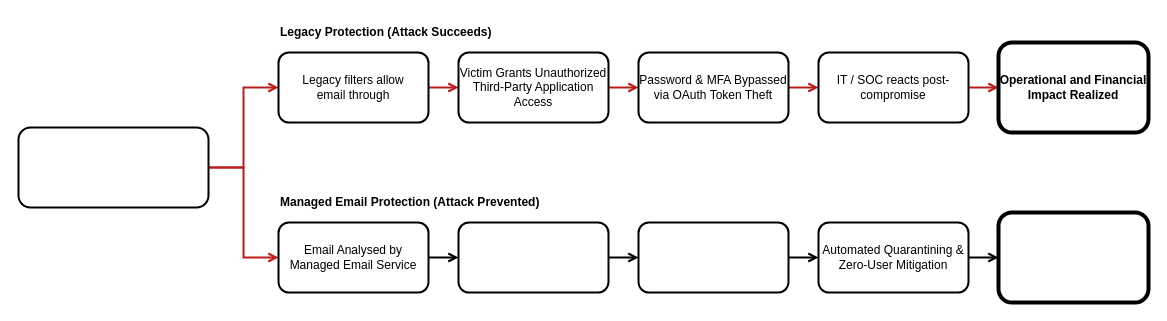
Some shapes in this 1167 by 321 pixel diagram are drawn without their labels. Here are the shapes that lost their labels. From the top down, the box of each, then its label:
(17, 126, 209, 208): Consent Phishing Attack Initiated (AiTM)
(457, 221, 609, 293): Managed Security Analyzes Consent Link Metadata
(637, 221, 789, 293): Multi vector Analysis Flags Anomalies in Link
(996, 210, 1150, 304): Zero Business Impact Achieved
